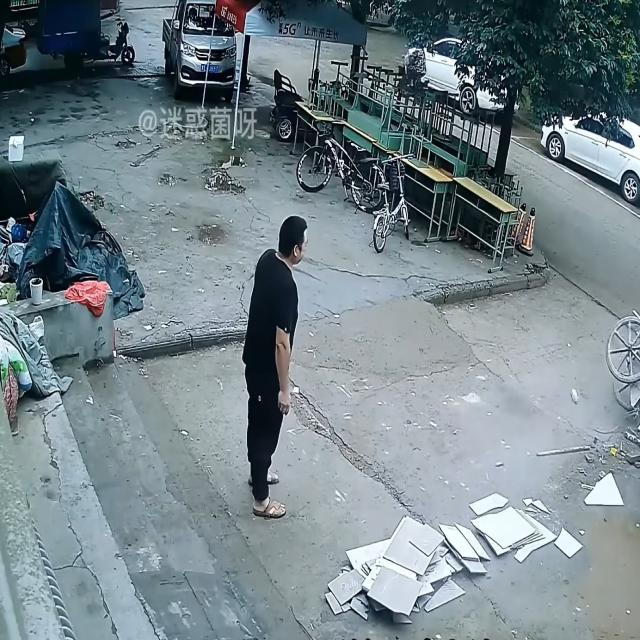standing: (242, 215, 308, 518)
